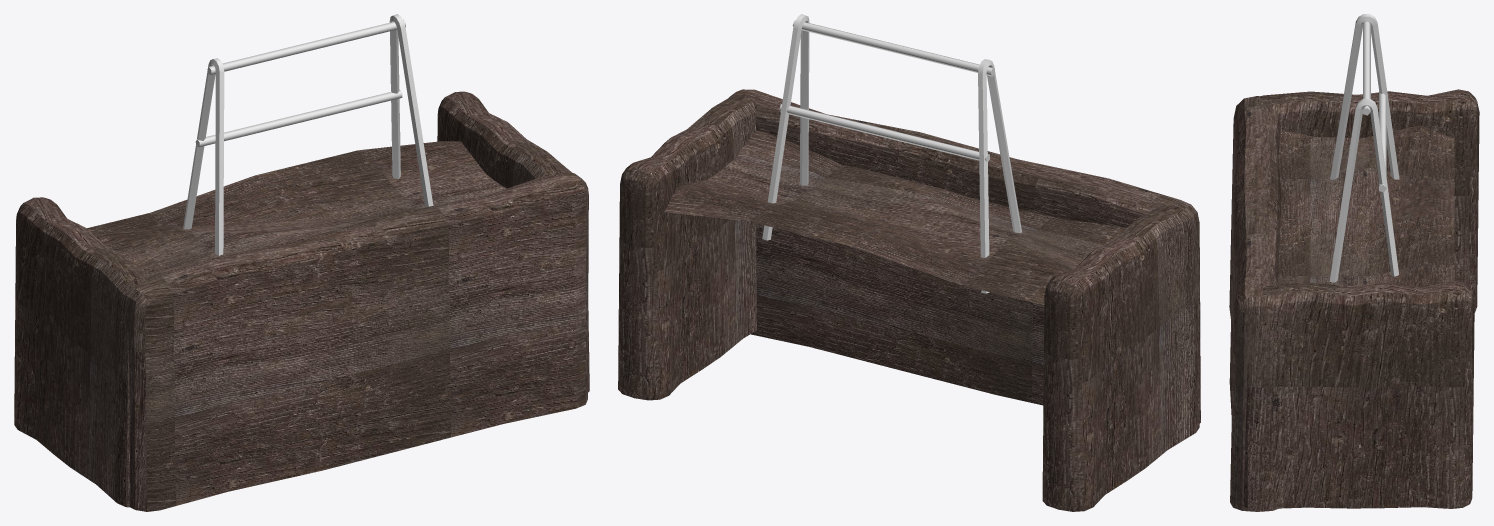
File: hearth.FBX
3 renders of one model, left to right at view 1: azimuth 30°, elevation 25°; view 2: azimuth 150°, elevation 25°; view 3: azimuth 270°, elevation 25°, orthographic. The views are drawn at different scales.
Parts seen in each view (by area): view 1: Box148, Box149, Plane002, Box150, Cylinder053, Cylinder055, Cylinder056, Cylinder054; view 2: Box148, Box149, Plane002, Box150, Cylinder053, Cylinder055, Cylinder056, Cylinder054; view 3: Box150, Plane002, Box148, Box149, Cylinder055, Cylinder053, Cylinder054, Cylinder056.
Part boxes in pixels (x1,y1,x2,y2): Box148: [124, 172, 588, 511]; Box149: [14, 197, 148, 507]; Plane002: [87, 141, 506, 276]; Box150: [437, 91, 589, 392]; Cylinder053: [183, 58, 224, 255]; Cylinder055: [389, 14, 433, 207]; Cylinder056: [195, 89, 402, 147]; Cylinder054: [207, 19, 405, 74]; Box148: [729, 89, 1200, 423]; Box149: [1042, 205, 1199, 511]; Plane002: [664, 130, 1125, 305]; Box150: [618, 94, 756, 400]; Cylinder053: [978, 59, 1021, 293]; Cylinder055: [762, 14, 809, 240]; Cylinder056: [779, 104, 989, 161]; Cylinder054: [792, 20, 994, 76]; Box150: [1243, 280, 1474, 509]; Plane002: [1277, 125, 1454, 286]; Box148: [1229, 96, 1281, 511]; Box149: [1260, 89, 1479, 312]; Cylinder055: [1329, 98, 1398, 282]; Cylinder053: [1330, 14, 1399, 179]; Cylinder054: [1363, 21, 1370, 115]; Cylinder056: [1379, 91, 1386, 192].
Bounding box in the file's own units: 24 × 18.04 × 11.6.
